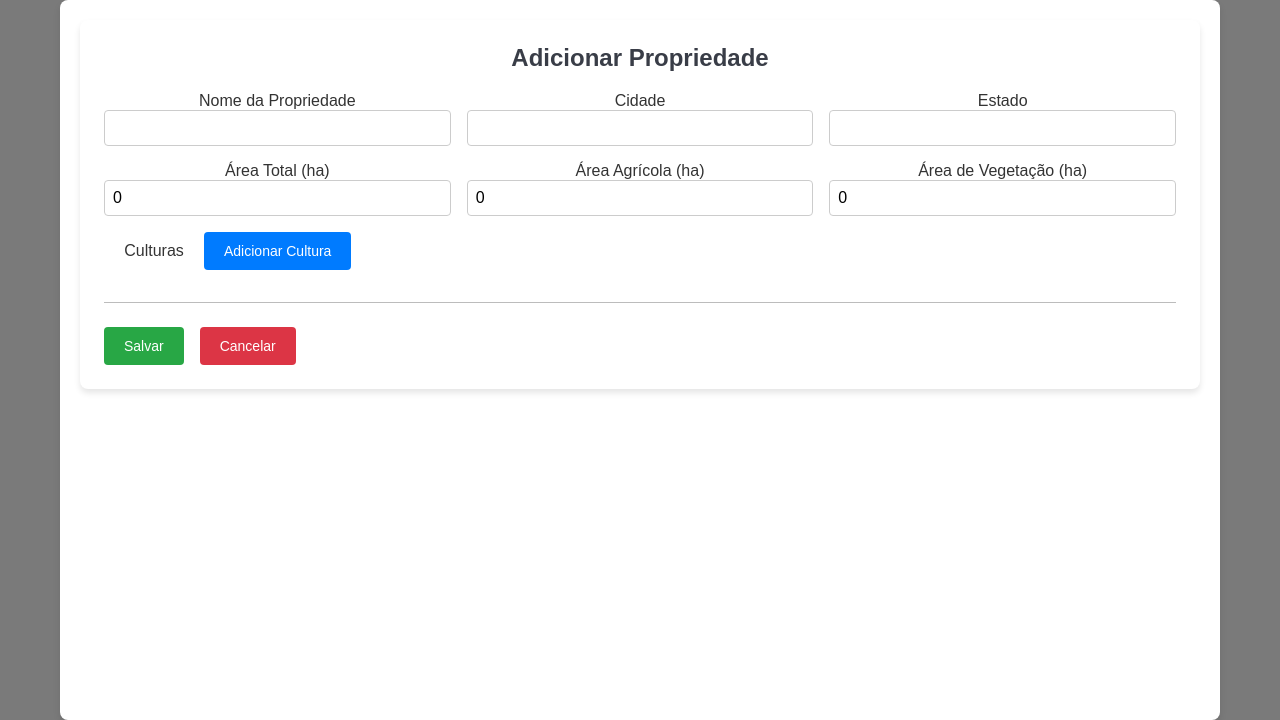
Test: ModalAddProperty › deve adicionar uma cultura à lista ao clicar no botão 'Adicionar Cultura'
Click the button "Adicionar Cultura" at (278, 251), box [204,232,351,270]
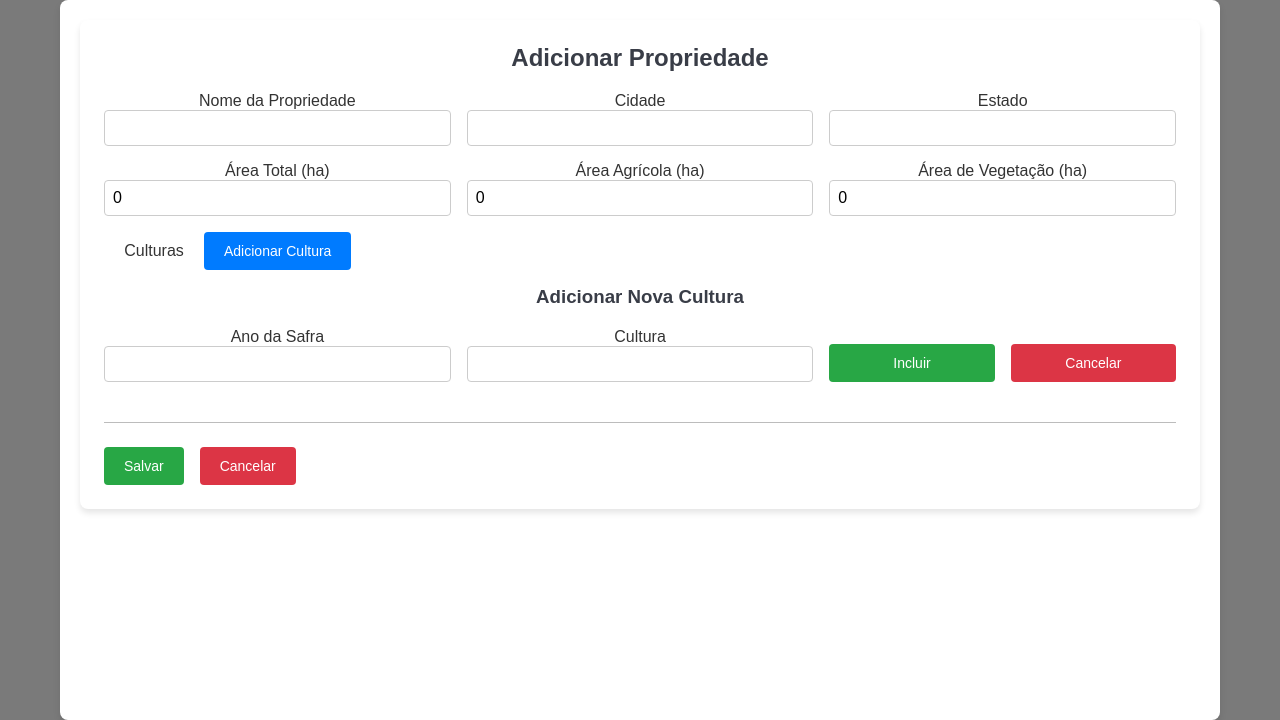
Expected: the heading "Adicionar Nova Cultura" is shown, [536,286,744,307]
Expected: the field labelled "Ano da Safra" is shown, [104,346,451,382]
Expected: the field labelled "Cultura" is shown, [467,346,813,382]
